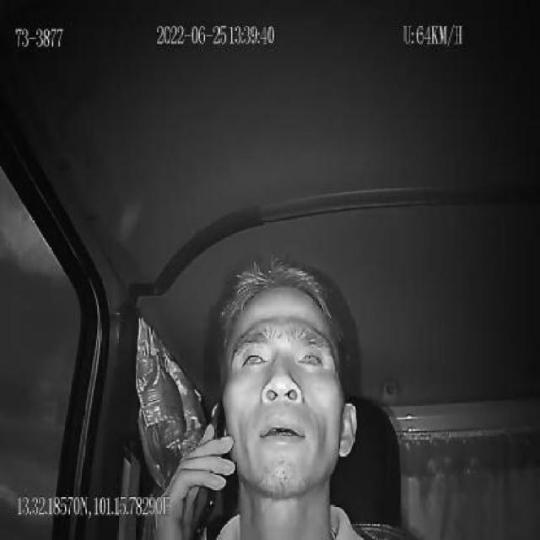phone: (187, 400, 226, 540)
